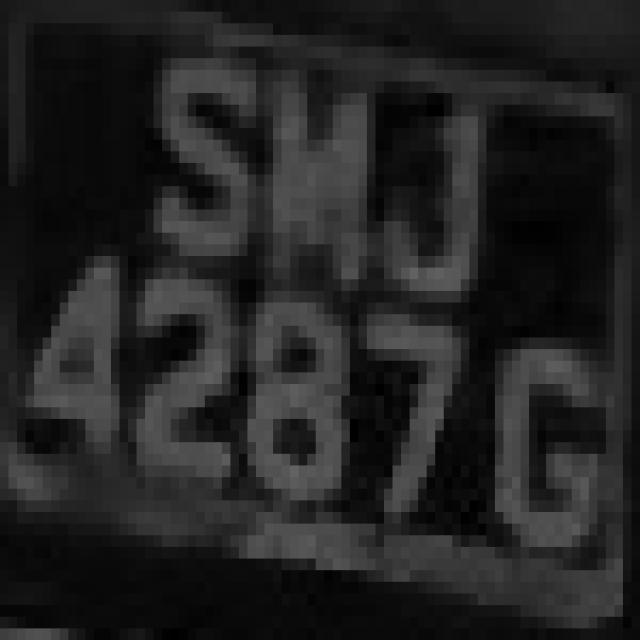2: (120, 233, 248, 535)
4: (26, 209, 145, 512)
7: (324, 256, 470, 559)
8: (205, 267, 367, 558)
G: (452, 268, 598, 605)
J: (367, 46, 495, 338)
M: (248, 58, 376, 314)
S: (145, 35, 265, 268)
